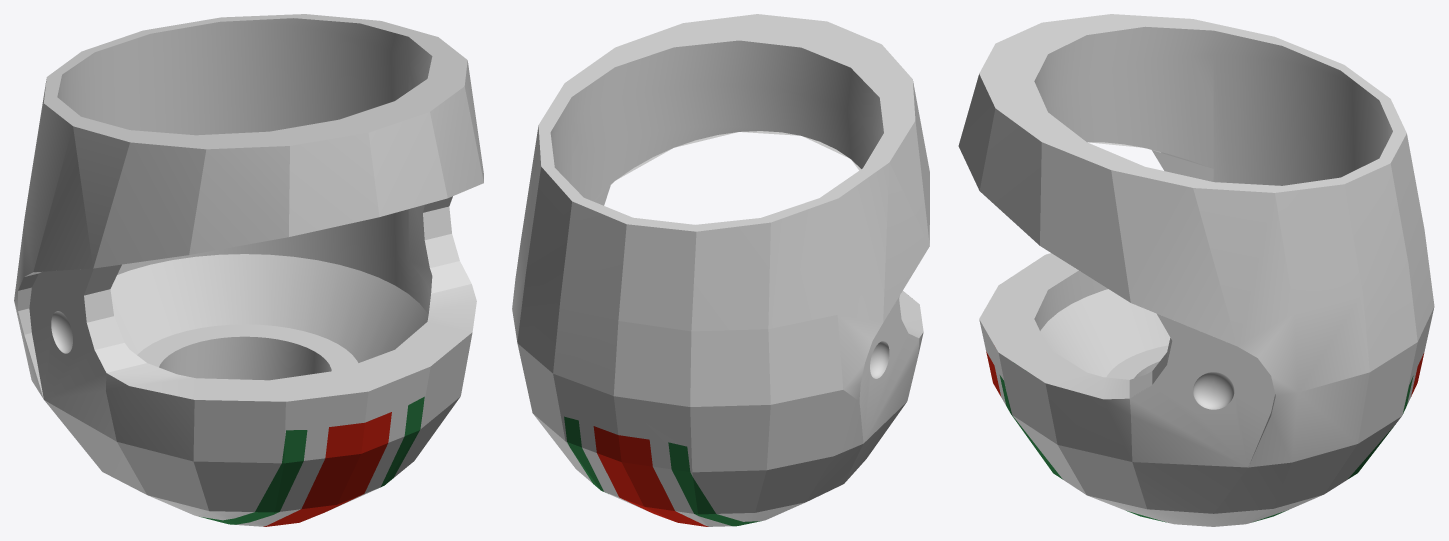
Rendered from RacingHelmet2.dae.
The picture shows the model from 3 angles, left to right: view 1: azimuth 30°, elevation 25°; view 2: azimuth 150°, elevation 25°; view 3: azimuth 270°, elevation 25°; orthographic projection. The views are drawn at different scales.
Parts seen in each view (by area): view 1: 2446p01_dot_dat; view 2: 2446p01_dot_dat; view 3: 2446p01_dot_dat.
Boxes of the visible parts, left/top/right/bottom form: 2446p01_dot_dat: left=14, top=14, right=483, bottom=526; 2446p01_dot_dat: left=512, top=14, right=929, bottom=526; 2446p01_dot_dat: left=958, top=14, right=1434, bottom=526.
Size of the model in its own units: 31.35 by 34.37 by 34.25.
